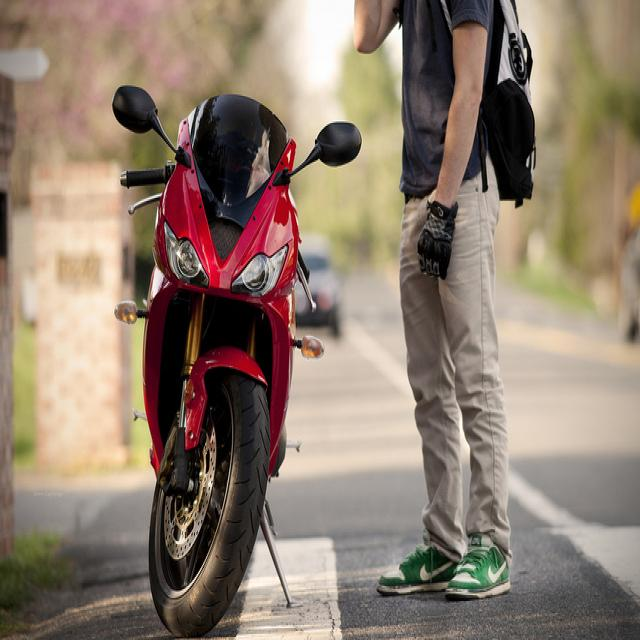motor: (110, 85, 361, 620)
